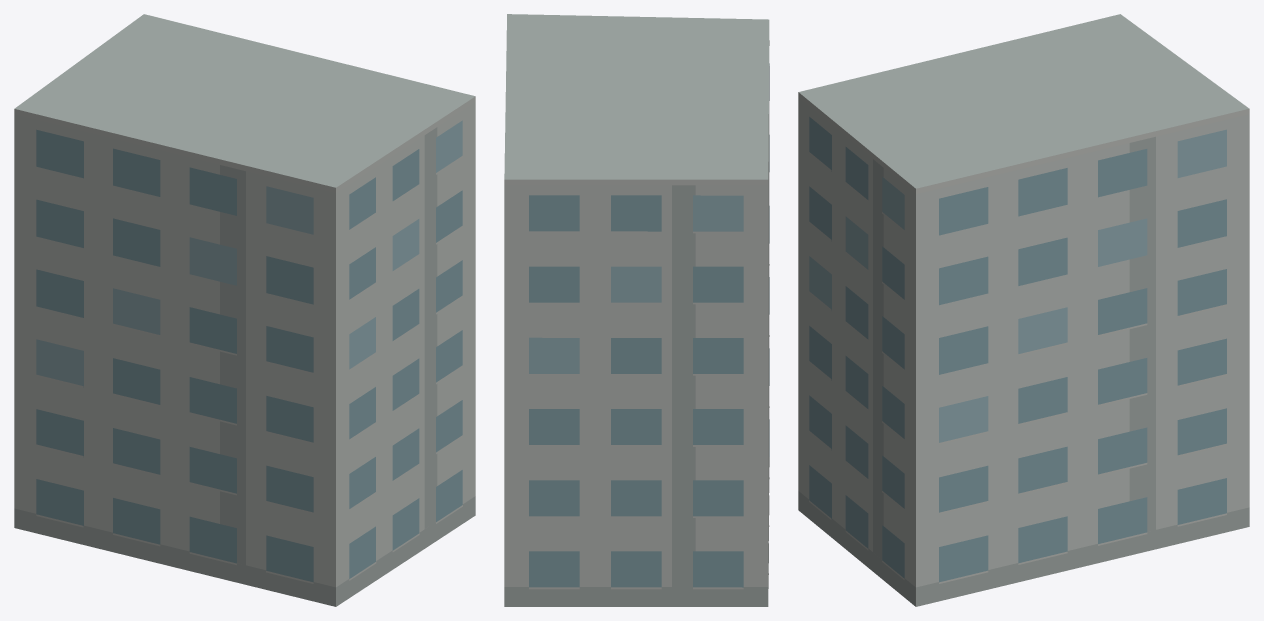
File: survey-upis-32574982.glb
The picture shows the model from 3 angles, left to right: view 1: azimuth 30°, elevation 25°; view 2: azimuth 150°, elevation 25°; view 3: azimuth 270°, elevation 25°; orthographic projection. The views are drawn at different scales.
Parts seen in each view (by area): view 1: survey-upis-32574982.tmp; view 2: survey-upis-32574982.tmp; view 3: survey-upis-32574982.tmp.
Boxes of the visible parts, x1,y1,x2,y2 form: survey-upis-32574982.tmp: [14, 14, 475, 606]; survey-upis-32574982.tmp: [504, 14, 769, 606]; survey-upis-32574982.tmp: [798, 14, 1249, 606].
Bounding box in the file's own units: 16.41 × 18.3 × 17.9.
